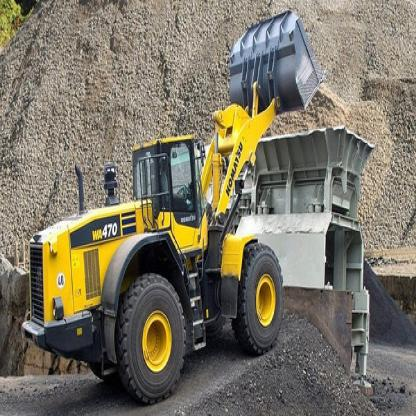bull_dozer/loader/grader: (20, 5, 325, 402)
